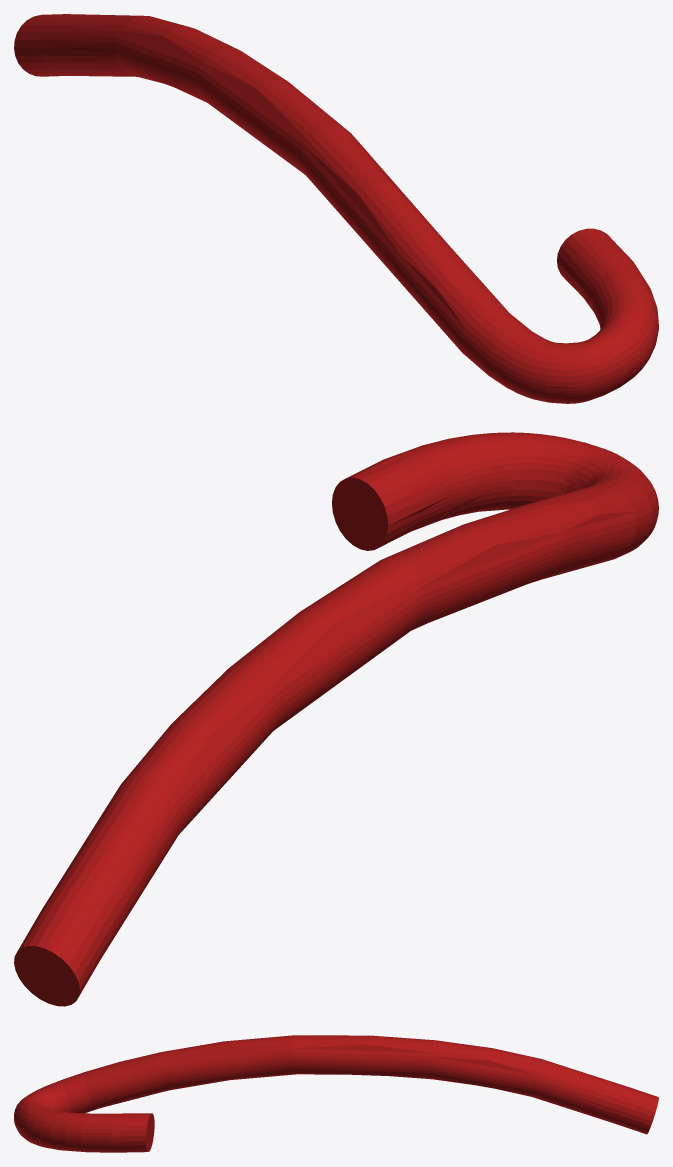
Rendered from tattu_4500_mah_JST_XHP_4_cable5_JST_XHP_4_cable5.obj.
The picture shows the model from 3 angles, top to bottom: view 1: azimuth 30°, elevation 25°; view 2: azimuth 150°, elevation 25°; view 3: azimuth 270°, elevation 25°; orthographic projection. The views are drawn at different scales.
Size of the model in its own units: 0.00752 by 0.00543 by 0.0326.
